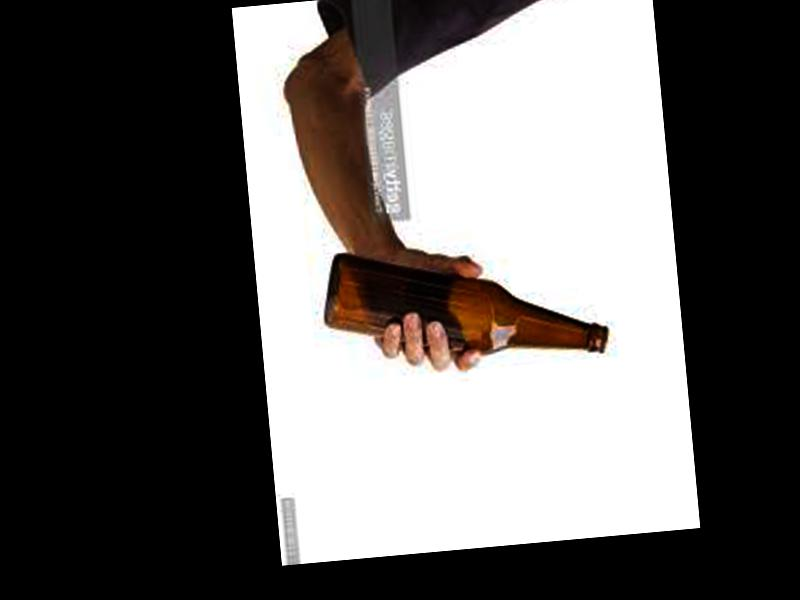Beer: (320, 227, 608, 377)
